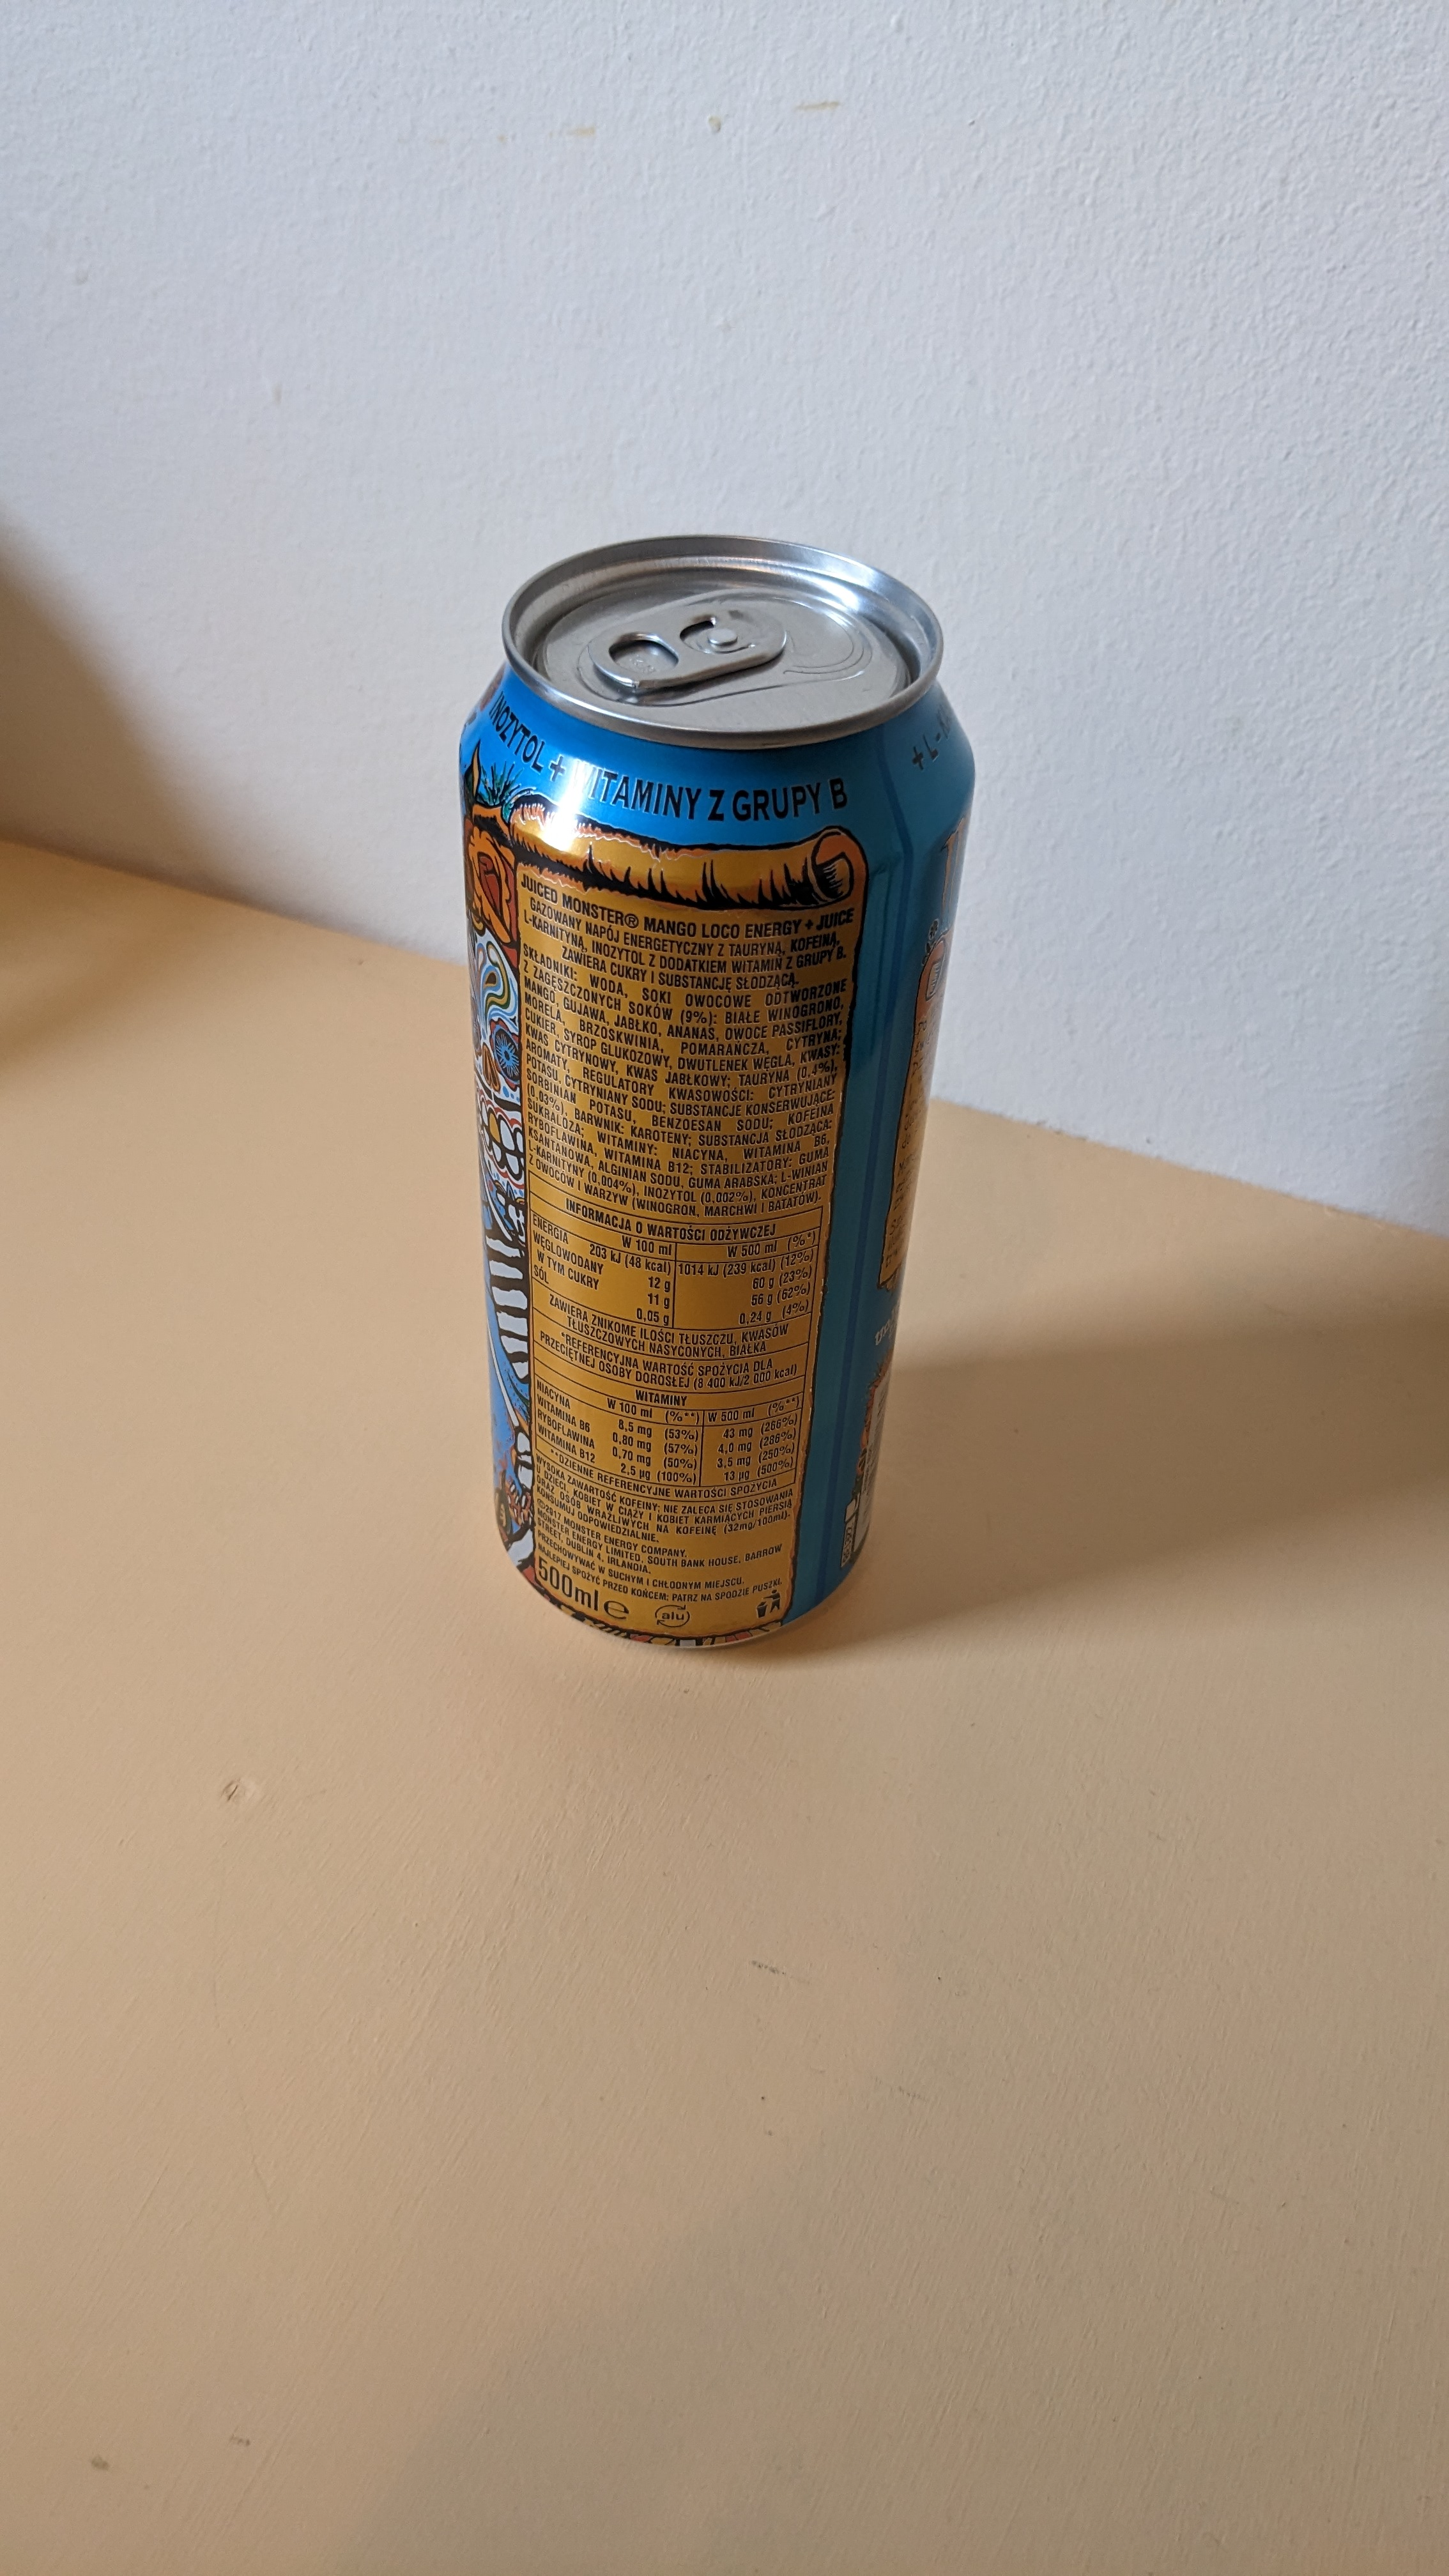monster: (441, 504, 977, 1668)
